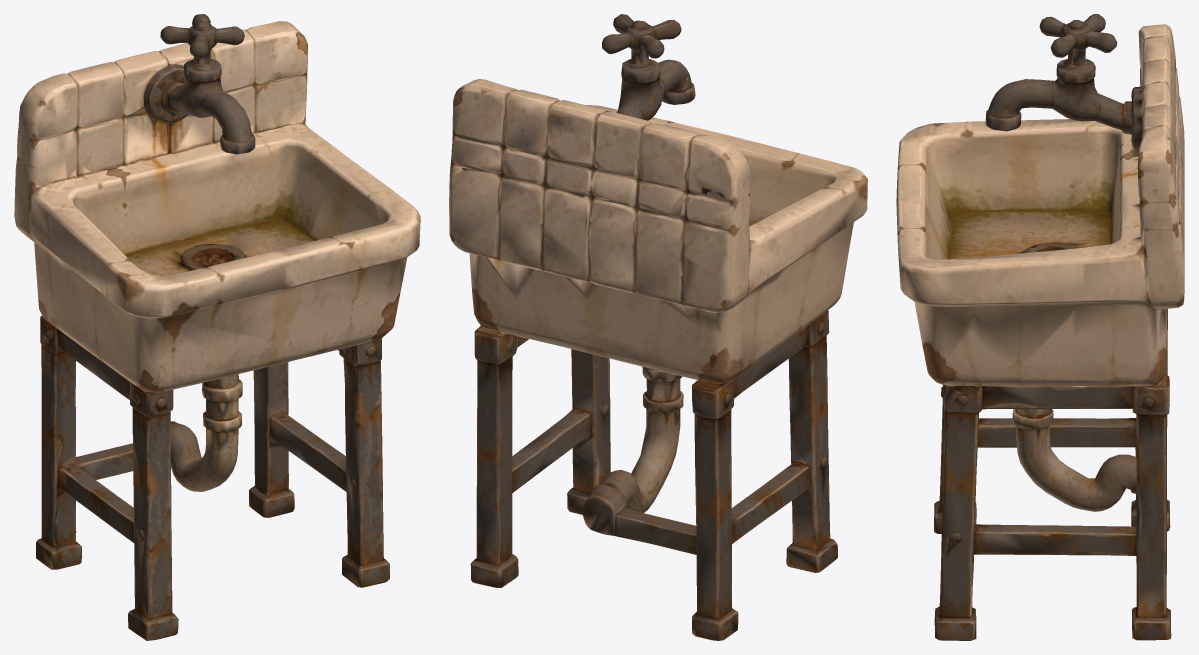
The model's file is d_utility_sink.glb.
The picture shows the model from 3 angles, left to right: view 1: azimuth 30°, elevation 25°; view 2: azimuth 150°, elevation 25°; view 3: azimuth 270°, elevation 25°; orthographic projection. The views are drawn at different scales.
Size of the model in its own units: 1.08 by 1.9 by 0.8861.
Materials: 1 (1 with a texture image).
